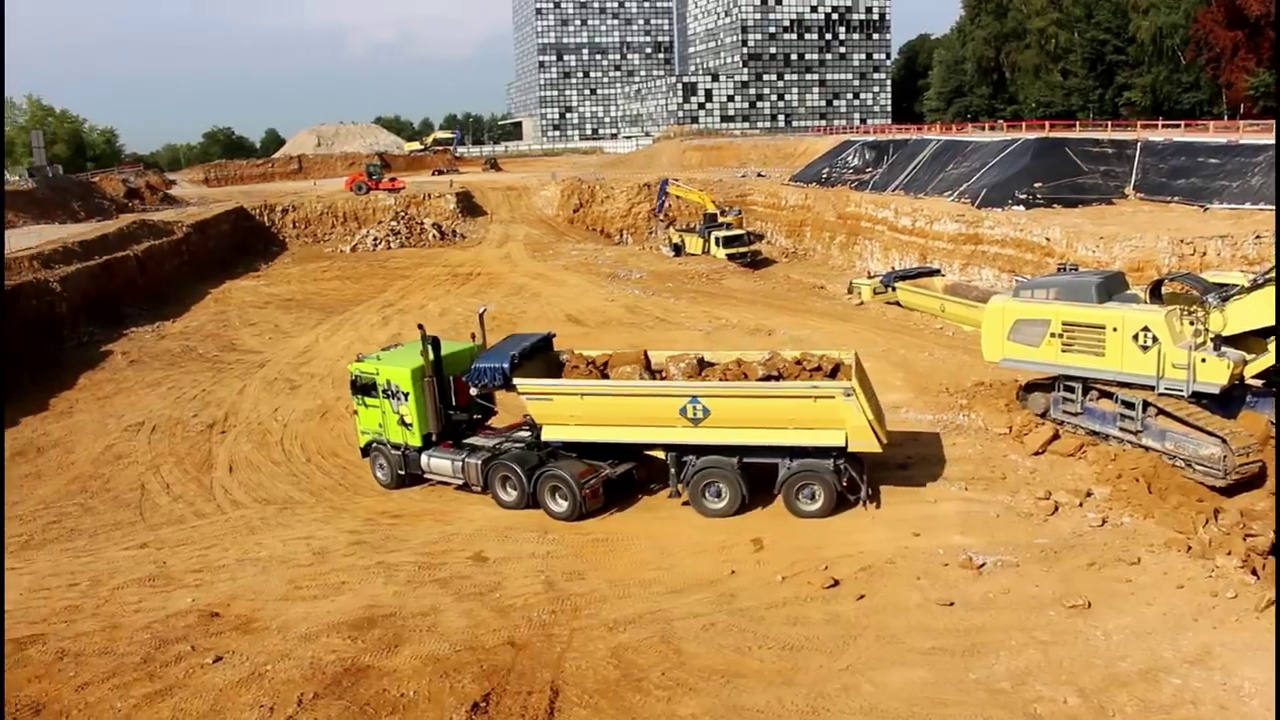compactor: (343, 162, 409, 195)
excavator: (979, 247, 1280, 494), (654, 172, 748, 247), (403, 126, 469, 162)
truck: (341, 302, 895, 523), (847, 262, 1046, 362), (665, 221, 758, 276)
